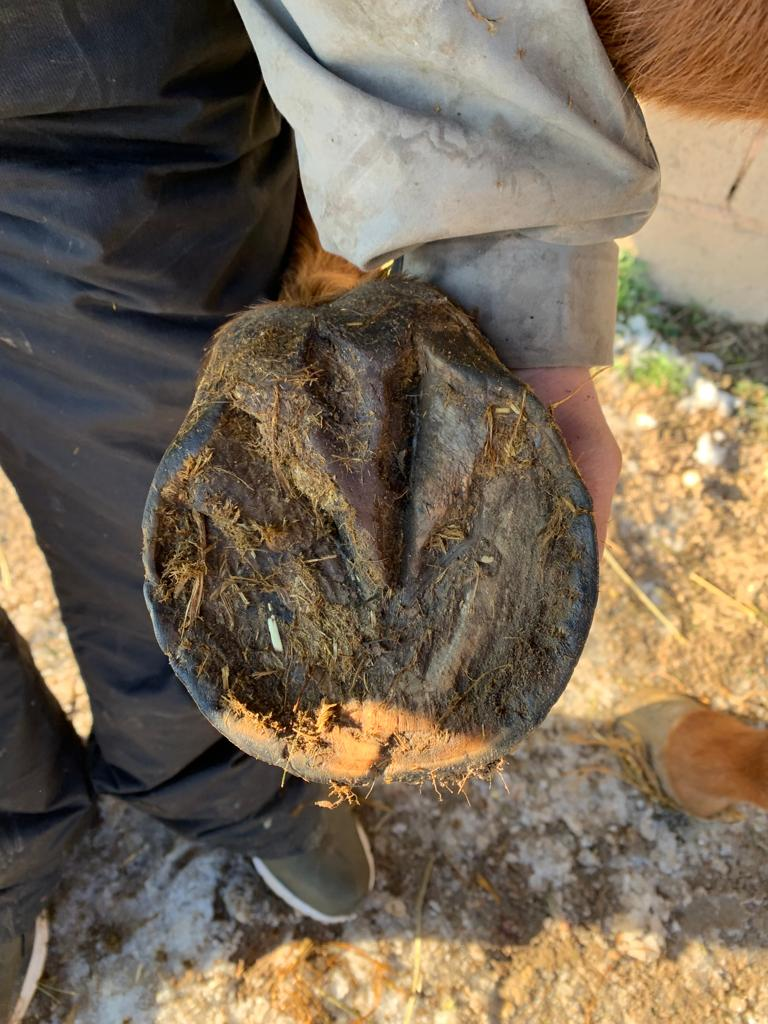horsesole: (143, 332, 601, 783)
